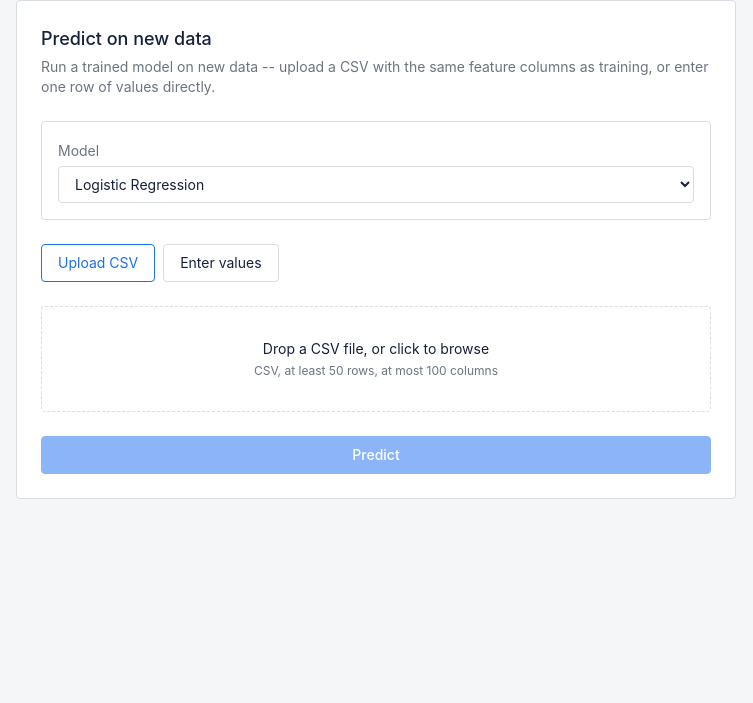
Scenario: PredictScreen › predicts in manual mode once every field is filled
Click the button "Enter values".
click(221, 263)  # box [163, 244, 279, 282]
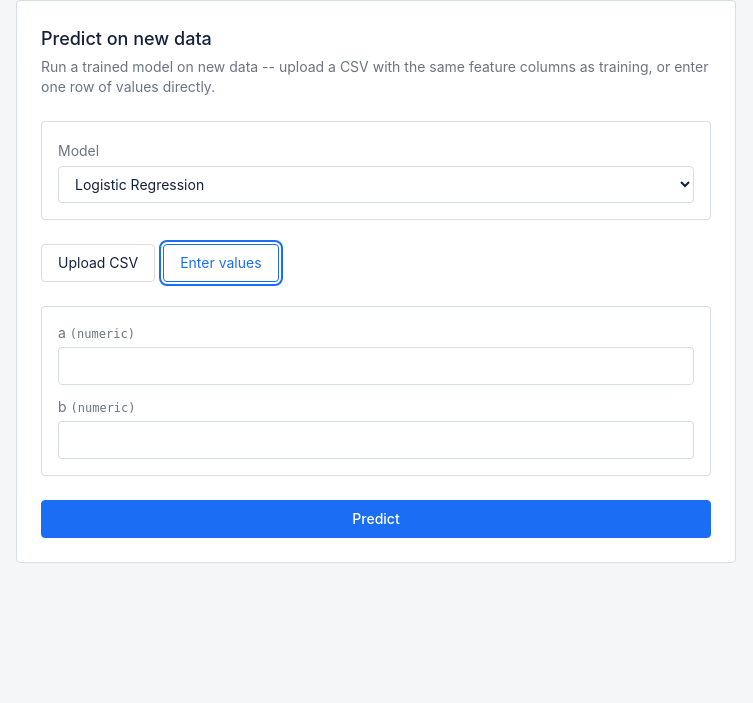
Type "1" into the number field labelled "a (numeric)".
click(376, 366); type("1")  # box [58, 347, 694, 385]
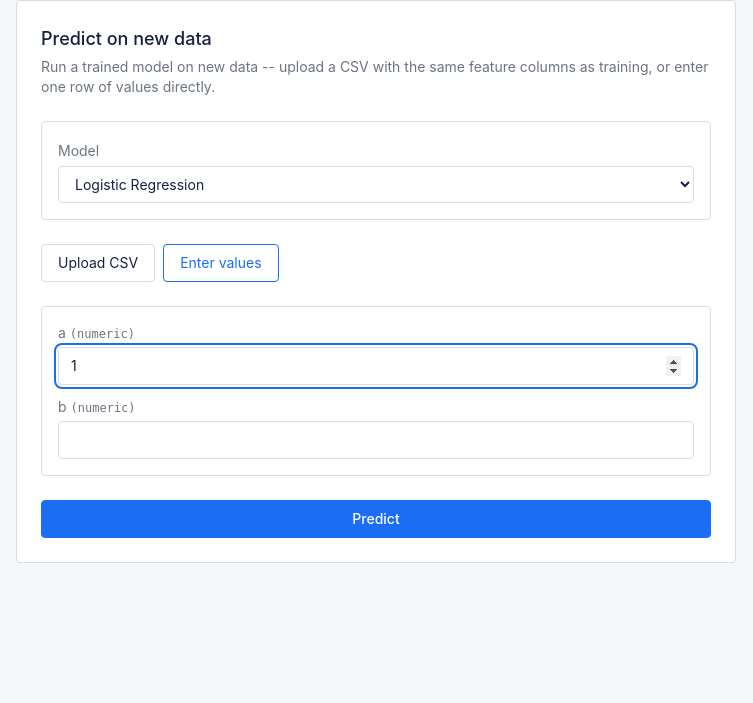
Type "2" into the number field labelled "b (numeric)".
click(376, 440); type("2")  # box [58, 421, 694, 459]
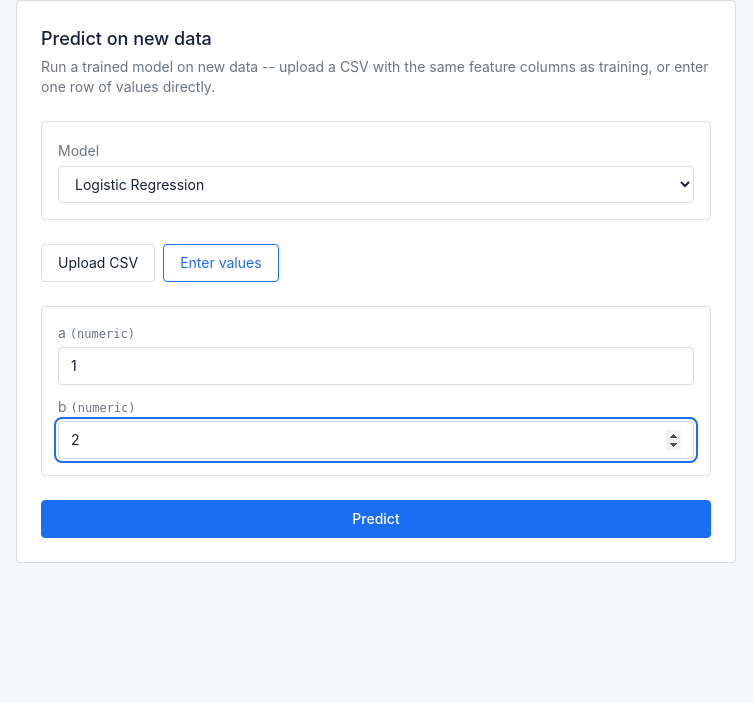
Click the button "Predict".
click(376, 519)  # box [41, 500, 711, 538]
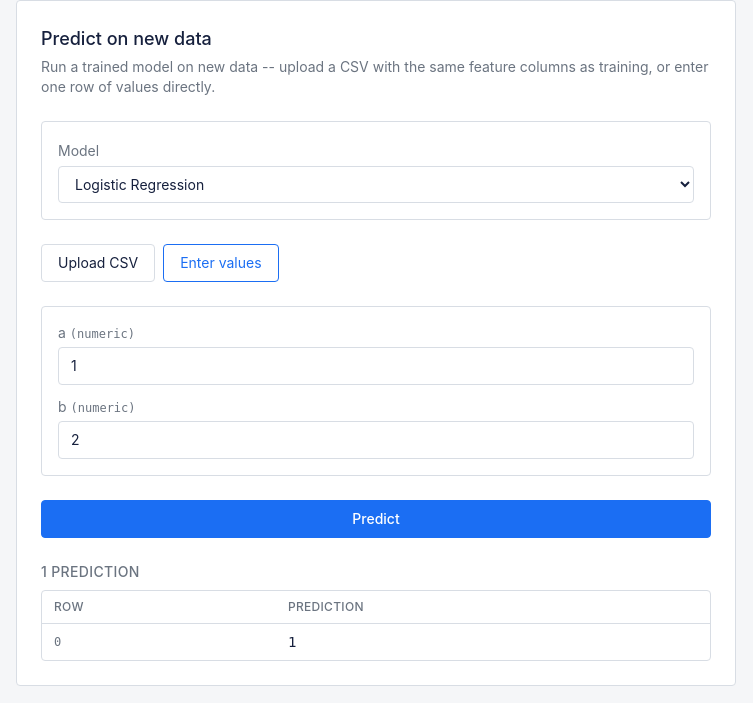
Result: the text "1 prediction" is shown at [41, 563, 140, 580]
